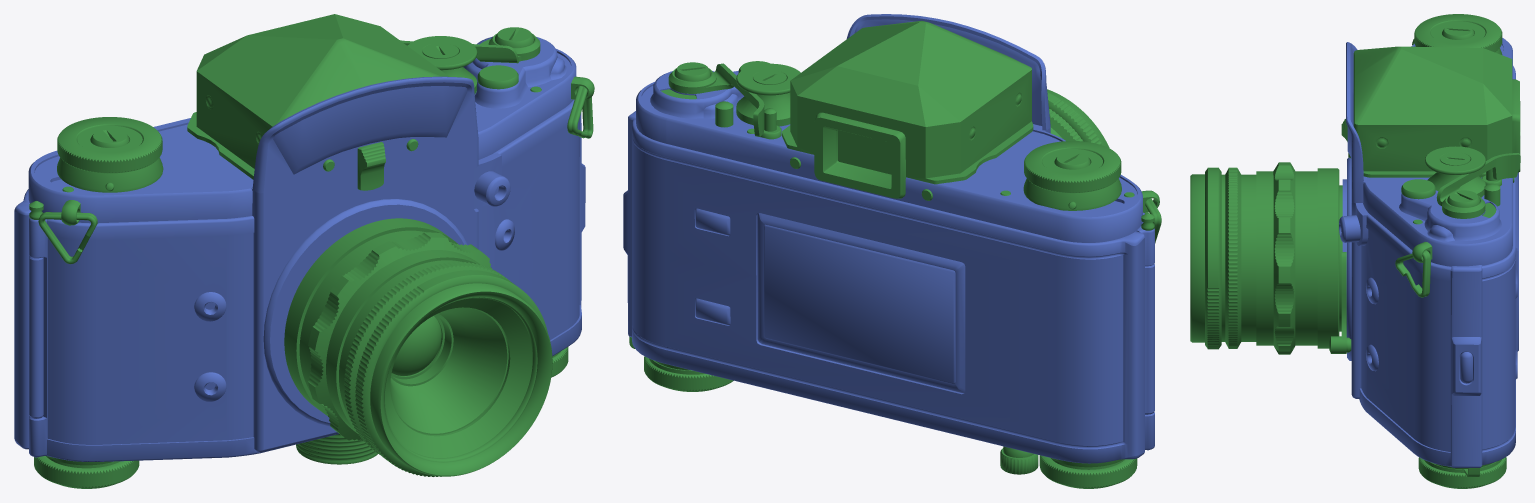
Rendered from vintage_camera.glb.
The picture shows the model from 3 angles, left to right: view 1: azimuth 30°, elevation 25°; view 2: azimuth 150°, elevation 25°; view 3: azimuth 270°, elevation 25°; orthographic projection. The views are drawn at different scales.
Parts seen in each view (by area): view 1: Exakta_VX; view 2: Exakta_VX; view 3: Exakta_VX.
Boxes of the visible parts, box(x1,y1,x2,y2) form: Exakta_VX: box(14, 14, 594, 488); Exakta_VX: box(623, 14, 1161, 488); Exakta_VX: box(1190, 14, 1520, 488).
Size of the model in its own units: 0.1527 by 0.1059 by 0.0933.
